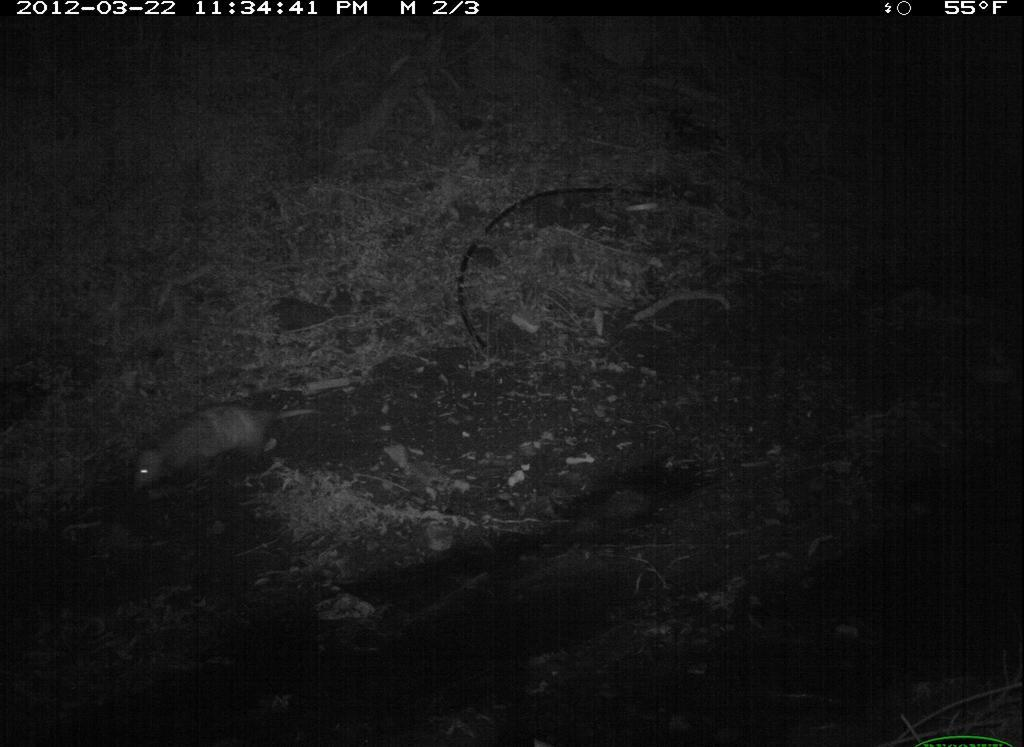opossum: (121, 397, 342, 498)
